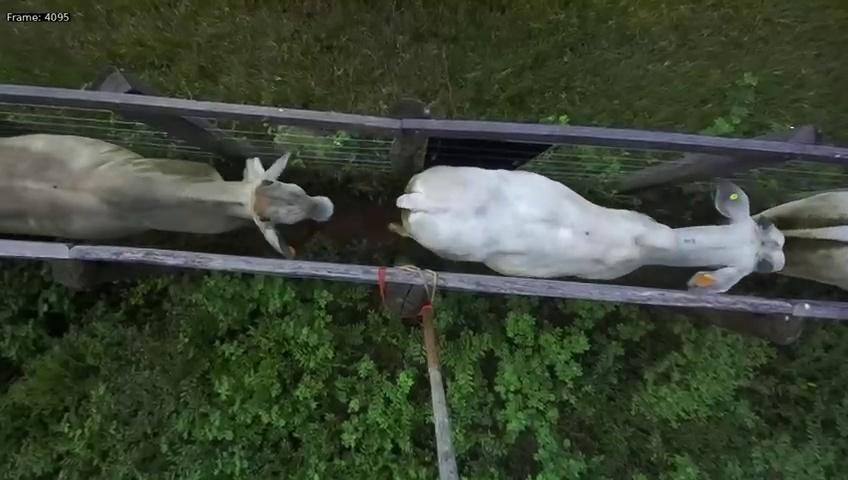cattle: (387, 133, 802, 291), (0, 131, 335, 258)
